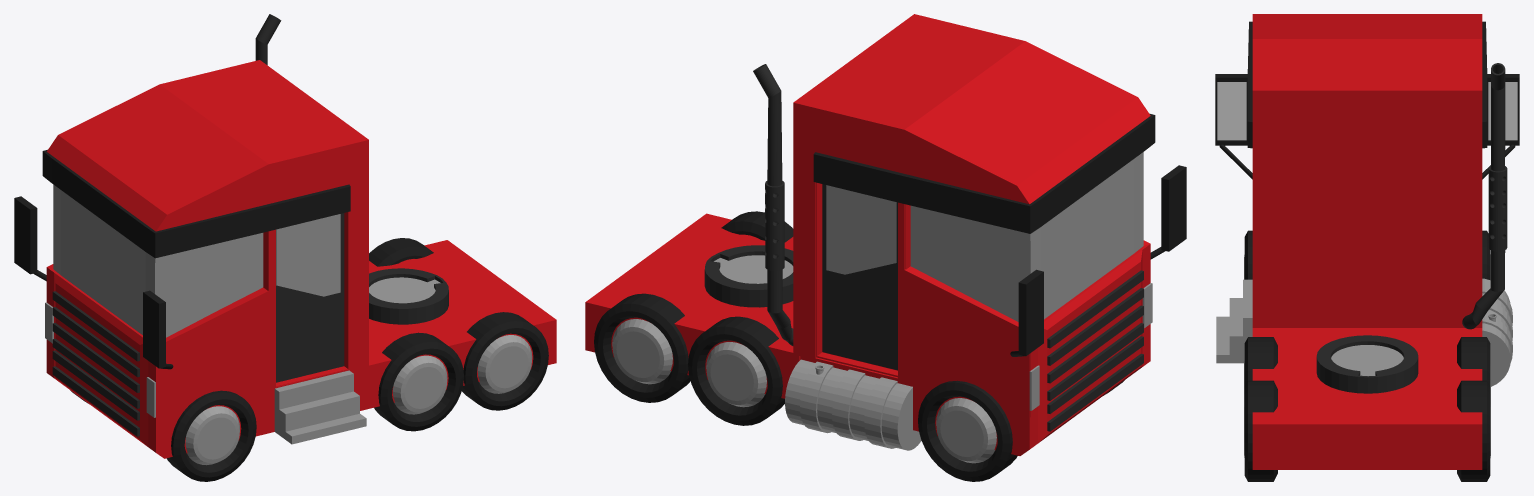
File: Big Truck 1.fbx
3 renders of one model, left to right at view 1: azimuth 30°, elevation 25°; view 2: azimuth 150°, elevation 25°; view 3: azimuth 270°, elevation 25°, orthographic. The views are drawn at different scales.
Parts seen in each view (by area): view 1: Cab, Wheels, Front Window, Door Windows; view 2: Cab, Wheels, Front Window, Fuel Tank, Door Windows; view 3: Cab, Wheels, Sideview mirrors, Fuel Tank.
Boxes of the visible parts, box(x1,y1,x2,y2) form: Cab: box(14, 14, 556, 458); Wheels: box(70, 238, 548, 481); Front Window: box(53, 184, 263, 337); Door Windows: box(276, 214, 340, 296); Cab: box(585, 14, 1186, 455); Wheels: box(594, 211, 1124, 481); Front Window: box(910, 152, 1143, 321); Fuel Tank: box(785, 359, 921, 450); Door Windows: box(826, 185, 896, 274); Cab: box(1215, 14, 1519, 469); Wheels: box(1244, 230, 1490, 481); Sideview mirrors: box(1217, 82, 1517, 140); Fuel Tank: box(1482, 278, 1512, 386).
Bounding box in the file's own units: 591 × 457 × 357.
